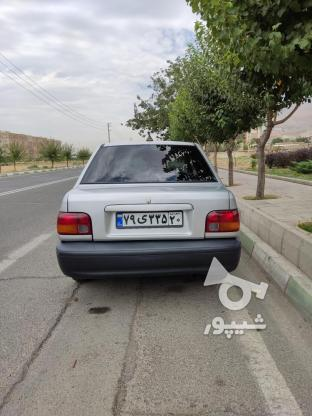car: (116, 212, 183, 227)
